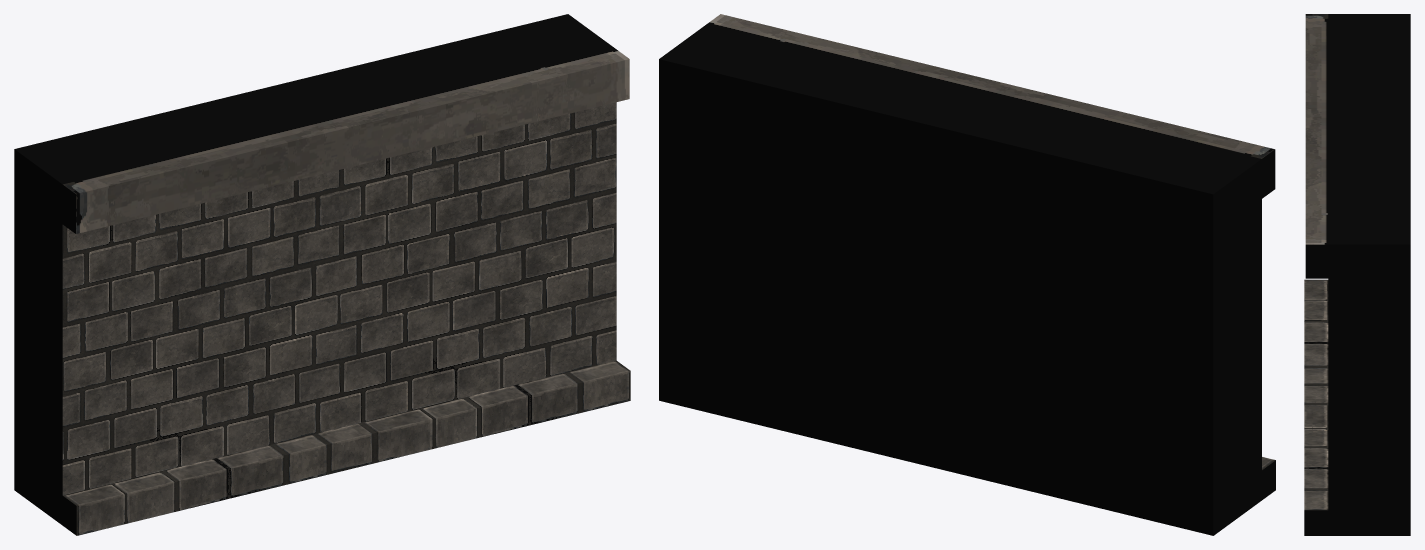
File: ModularWideWall01.fbx
3 views of the same model, side by side, from view 1: azimuth 30°, elevation 25°; view 2: azimuth 150°, elevation 25°; view 3: azimuth 270°, elevation 25° (orthographic). The views are drawn at different scales.
Parts seen in each view (by area): view 1: Plane; view 2: Plane; view 3: Plane.
Part boxes in pixels (x1,y1,x2,y2): Plane: (14,14,630,535); Plane: (659,14,1275,535); Plane: (1304,14,1410,535).
Bounding box in the file's own units: 3.4 × 2 × 0.6633.
1 material, 1 textured.
